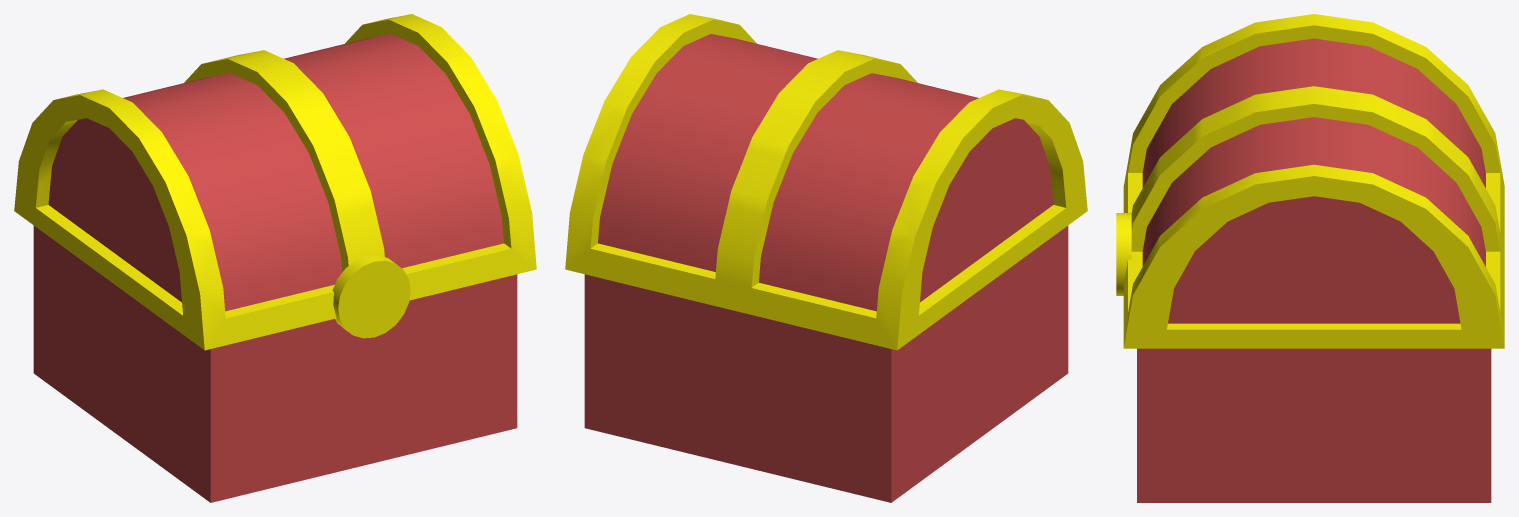
Rendered from Chest.fbx.
The picture shows the model from 3 angles, left to right: view 1: azimuth 30°, elevation 25°; view 2: azimuth 150°, elevation 25°; view 3: azimuth 270°, elevation 25°; orthographic projection.
Parts seen in each view (by area): view 1: pCube2; view 2: pCube2; view 3: pCube2.
Boxes of the visible parts, x1,y1,x2,y2 form: pCube2: (14,14,536,502); pCube2: (565,14,1087,502); pCube2: (1116,14,1504,502).
Size of the model in its own units: 1.08 by 1.04 by 1.1.
